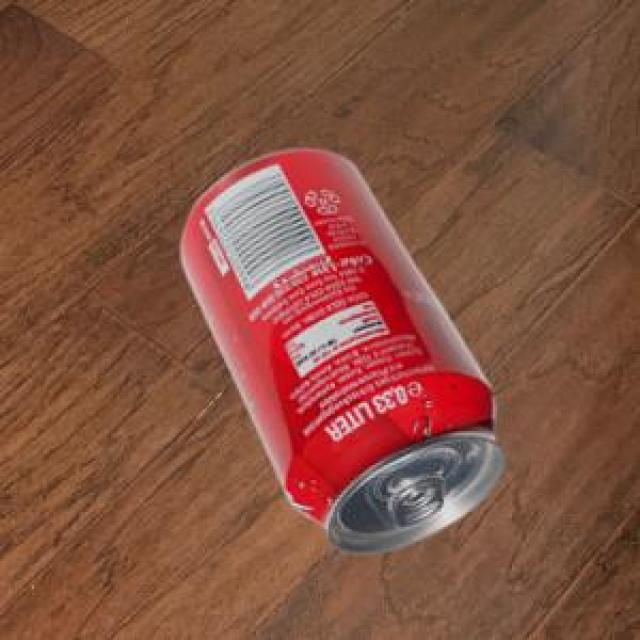logam: (178, 146, 500, 549)
